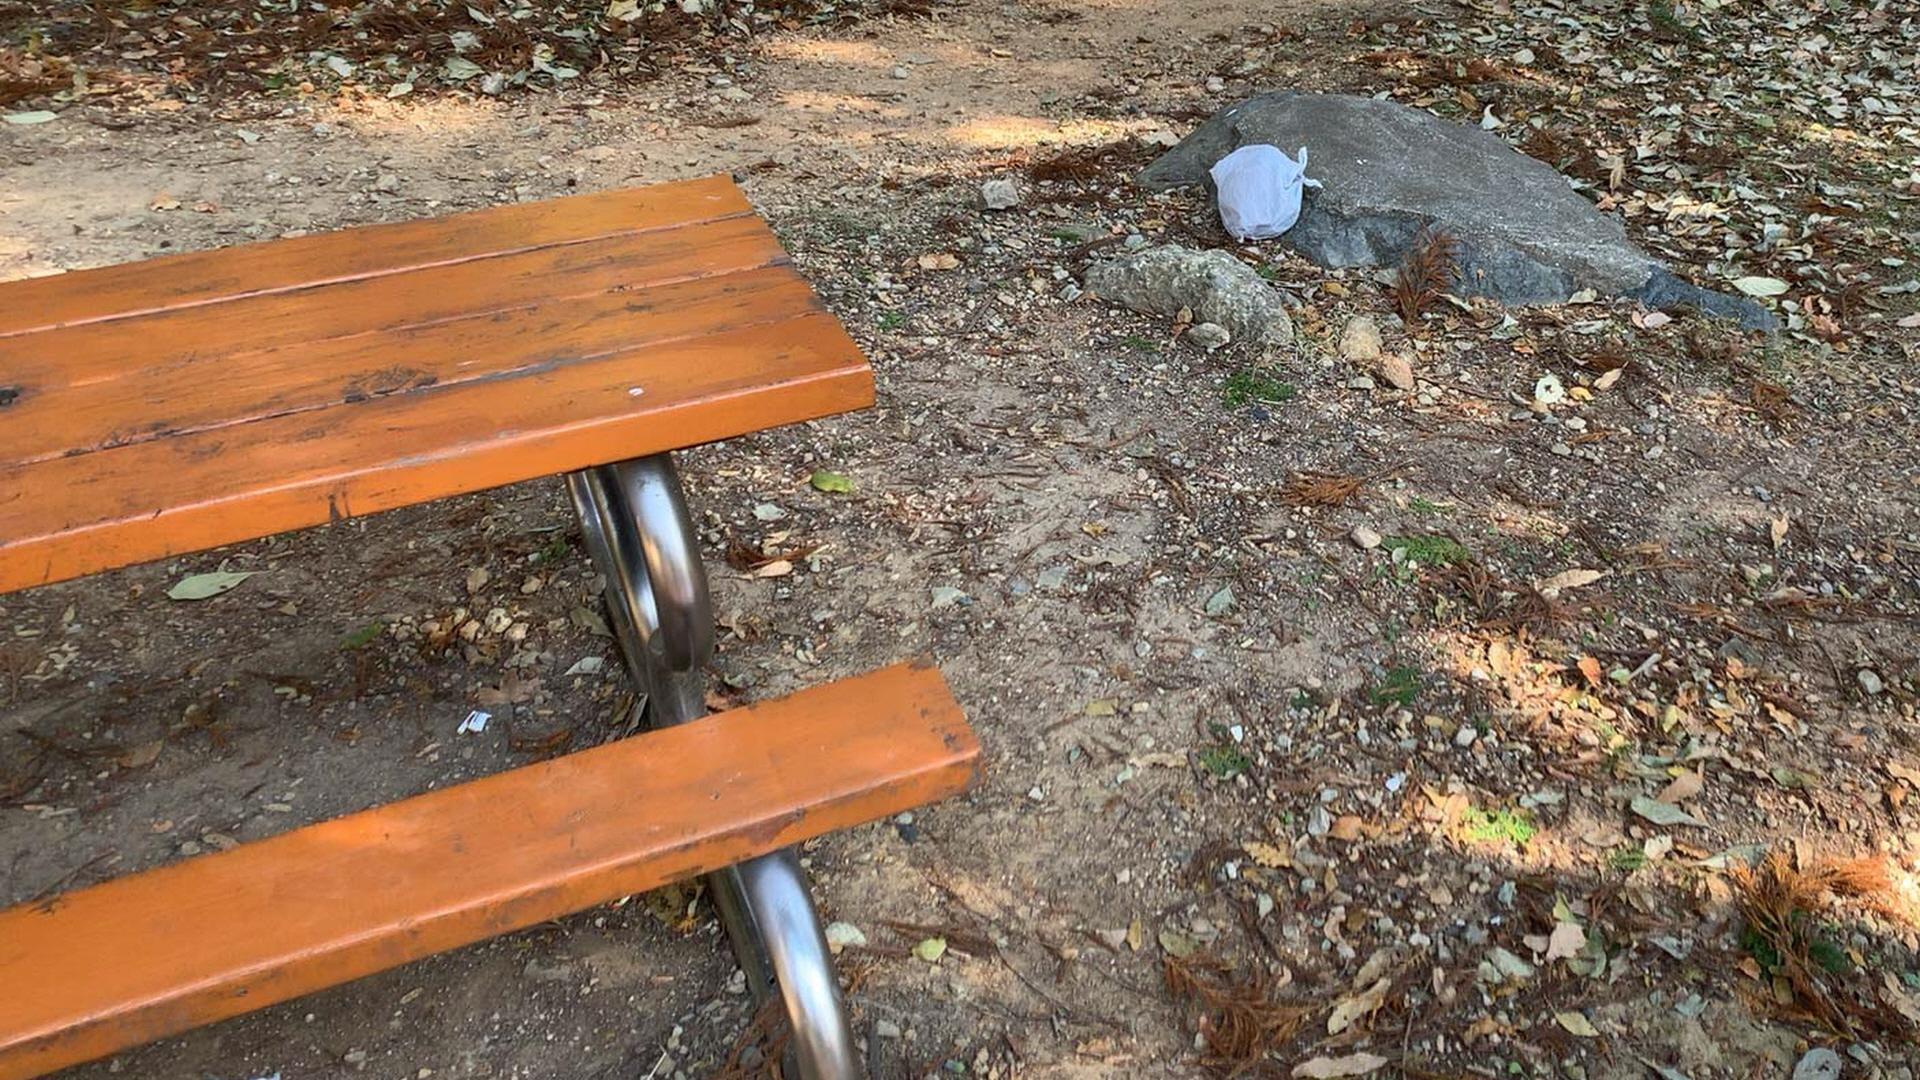white_bag: (1197, 132, 1331, 240)
